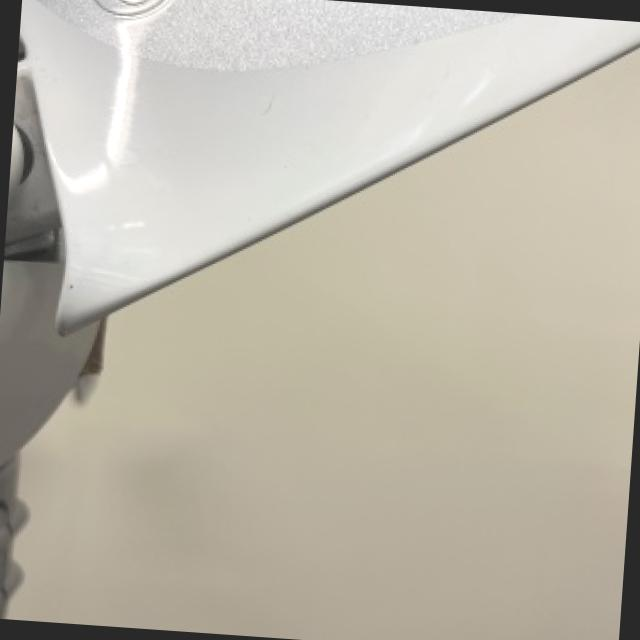healthy: (8, 0, 640, 640), (0, 0, 640, 454)
